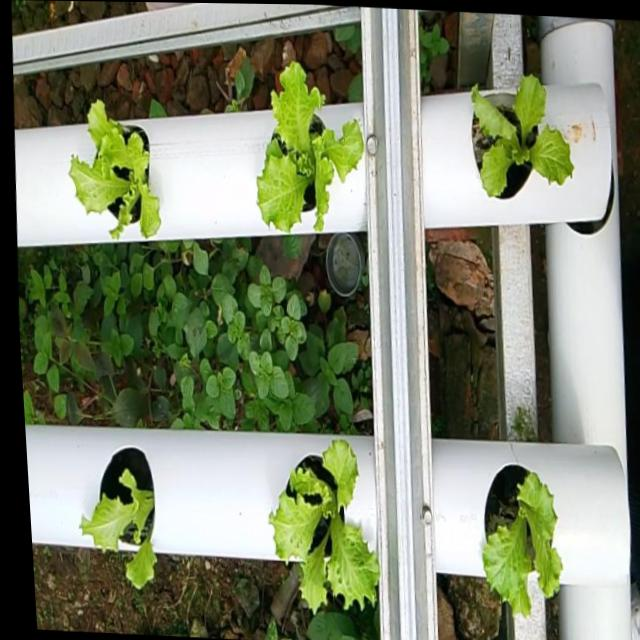Baby: (271, 440, 381, 620), (260, 63, 366, 234), (473, 76, 577, 202), (72, 100, 164, 239), (485, 466, 564, 618), (83, 445, 159, 586)
